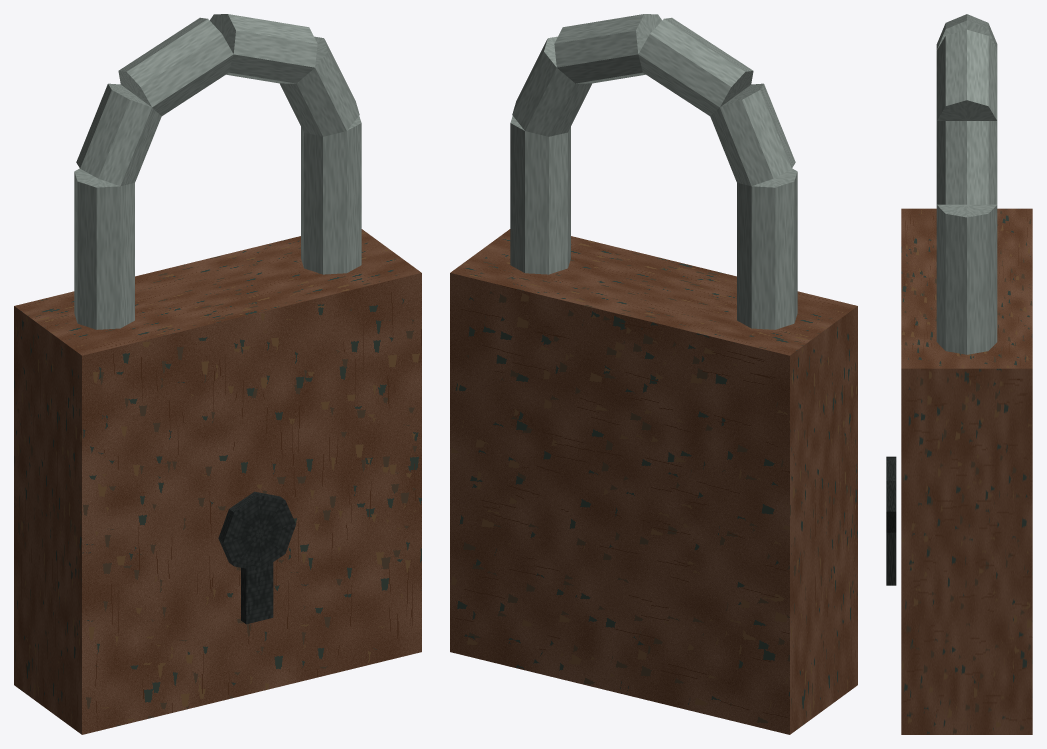
Rendered from Padlock.obj.
3 renders of one model, left to right at view 1: azimuth 30°, elevation 25°; view 2: azimuth 150°, elevation 25°; view 3: azimuth 270°, elevation 25°, orthographic. The views are drawn at different scales.
Visible parts, largest first — view 1: Padlock; view 2: Padlock; view 3: Padlock.
Part boxes in pixels (x1,y1,x2,y2): Padlock: [14, 14, 421, 734]; Padlock: [450, 14, 857, 734]; Padlock: [886, 14, 1032, 734].
Bounding box in the file's own units: 0.075 × 0.1376 × 0.029.
Materials: 3 (3 with a texture image).
